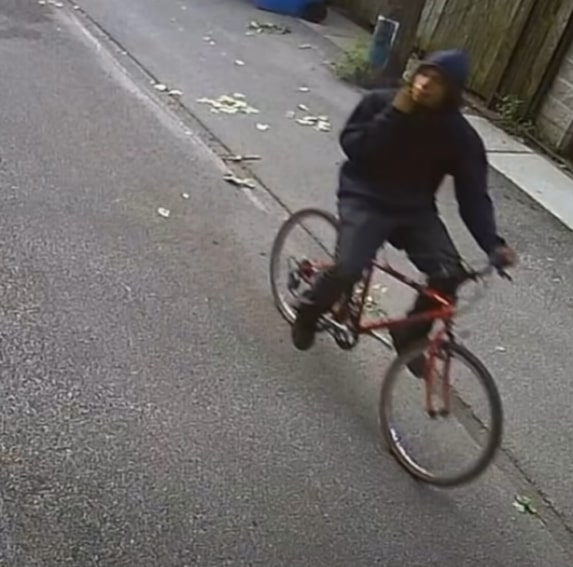person: (266, 50, 539, 535)
